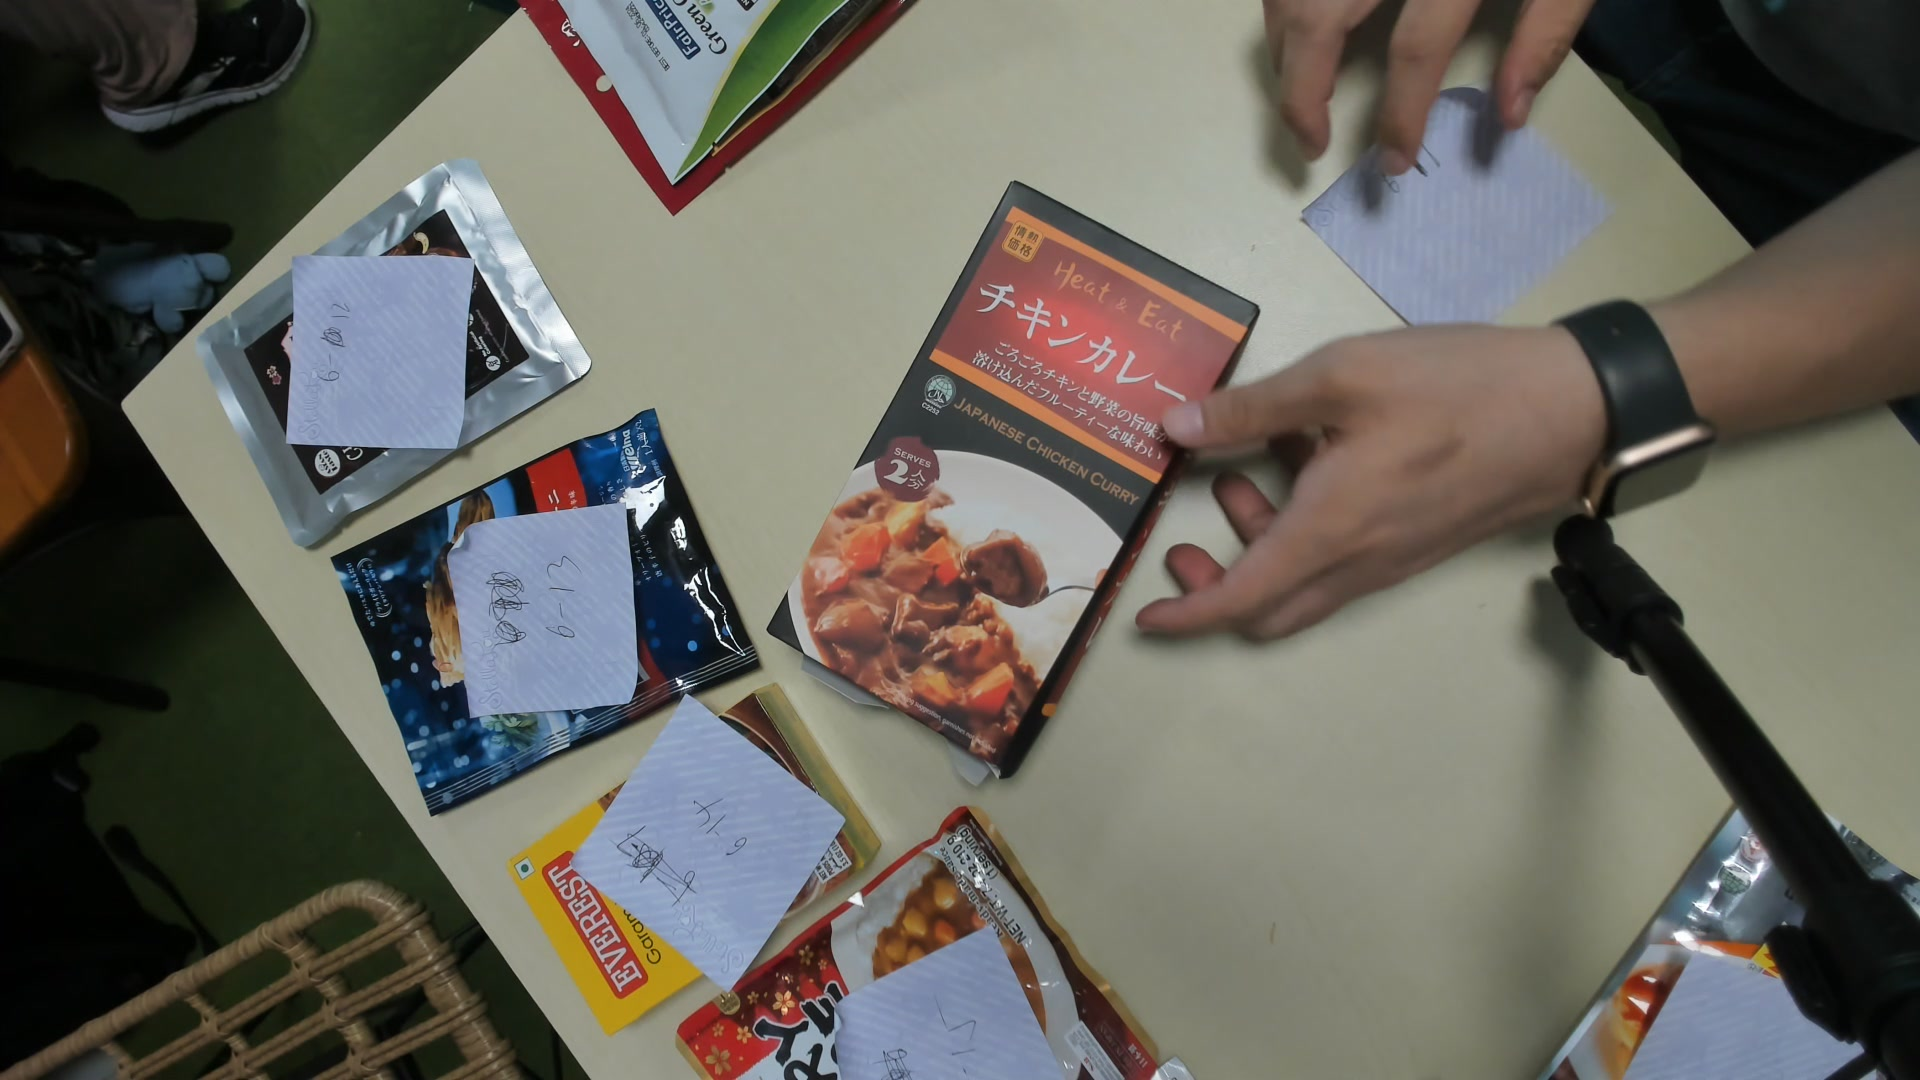CurryPastePowderSauce_200-299g_Halal_NonHealthy: (769, 178, 1263, 774)
